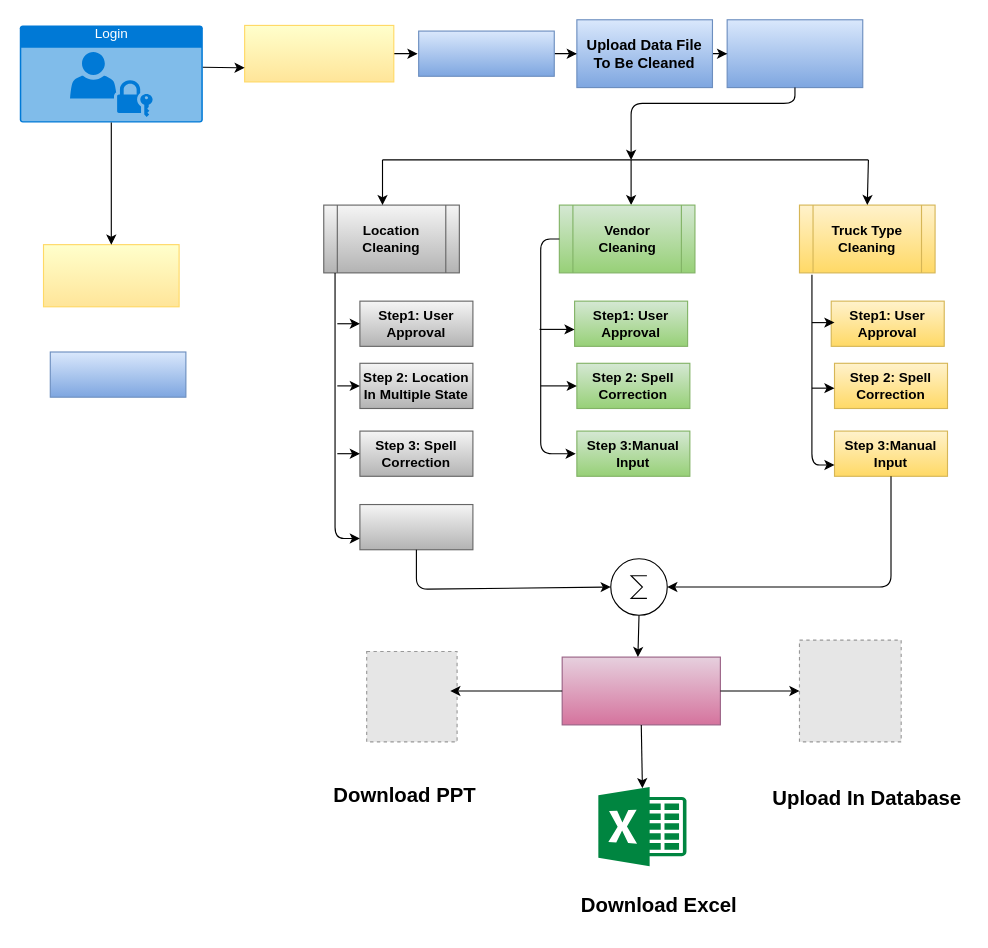
The diagram is 988 pixels wide and 948 high, and some of its shapes have lost their labels. Grey dashed boxes stand in for pictures. Here are the shapes that lost their labels. From the top down, the centre of each, then its label:
point 319,53: Clean New File
point 486,53: Fill Data Form
point 794,53: Map Fields As Per Standard Template
point 110,275: View Existing File
point 117,374: Click "View Existing Files"
point 416,526: Step 4:Manual Input
point 640,690: Final Processed File
